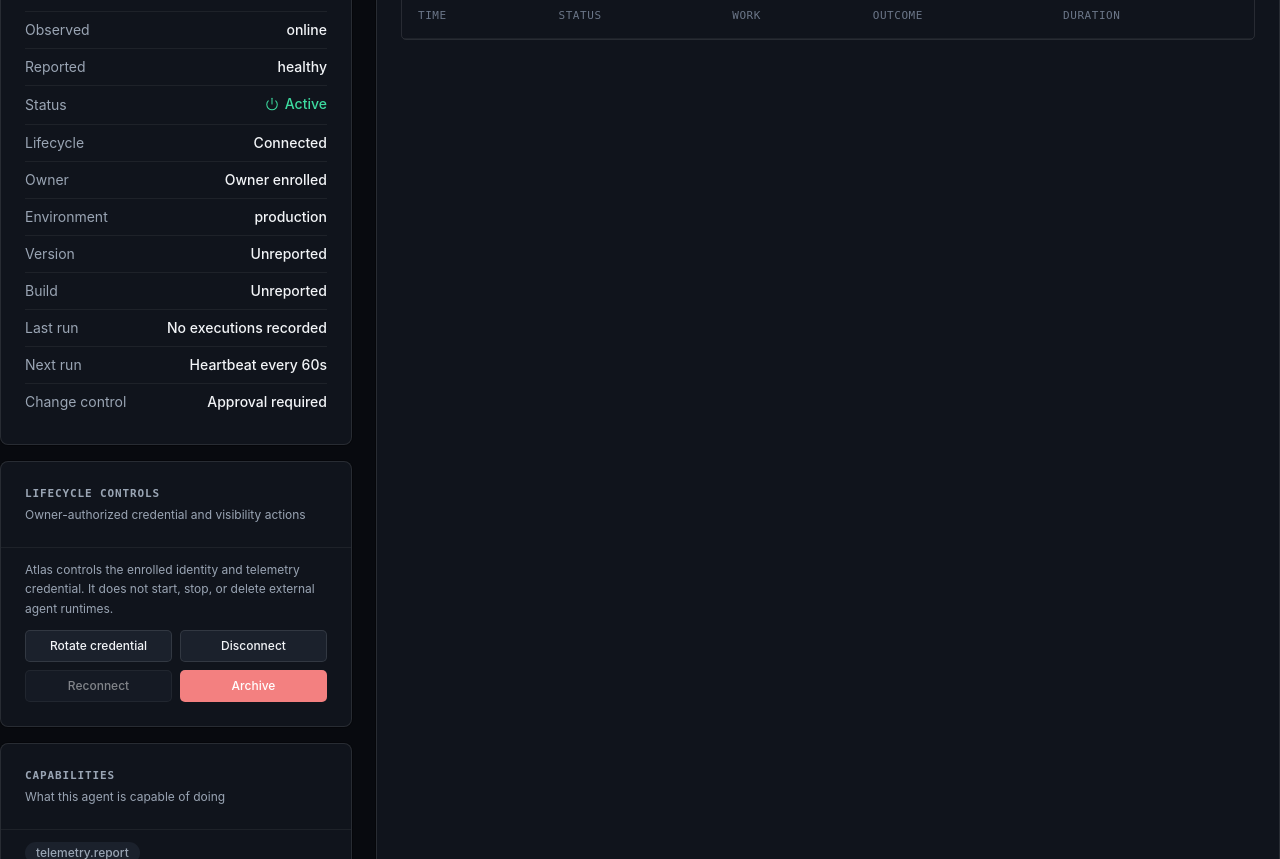
Test case: AgentDetailWorkspace active surface › rotates live credentials from the control-center detail page
(page scrolled)
Click the button "Rotate credential".
click(98, 646)  # box [25,630,172,662]
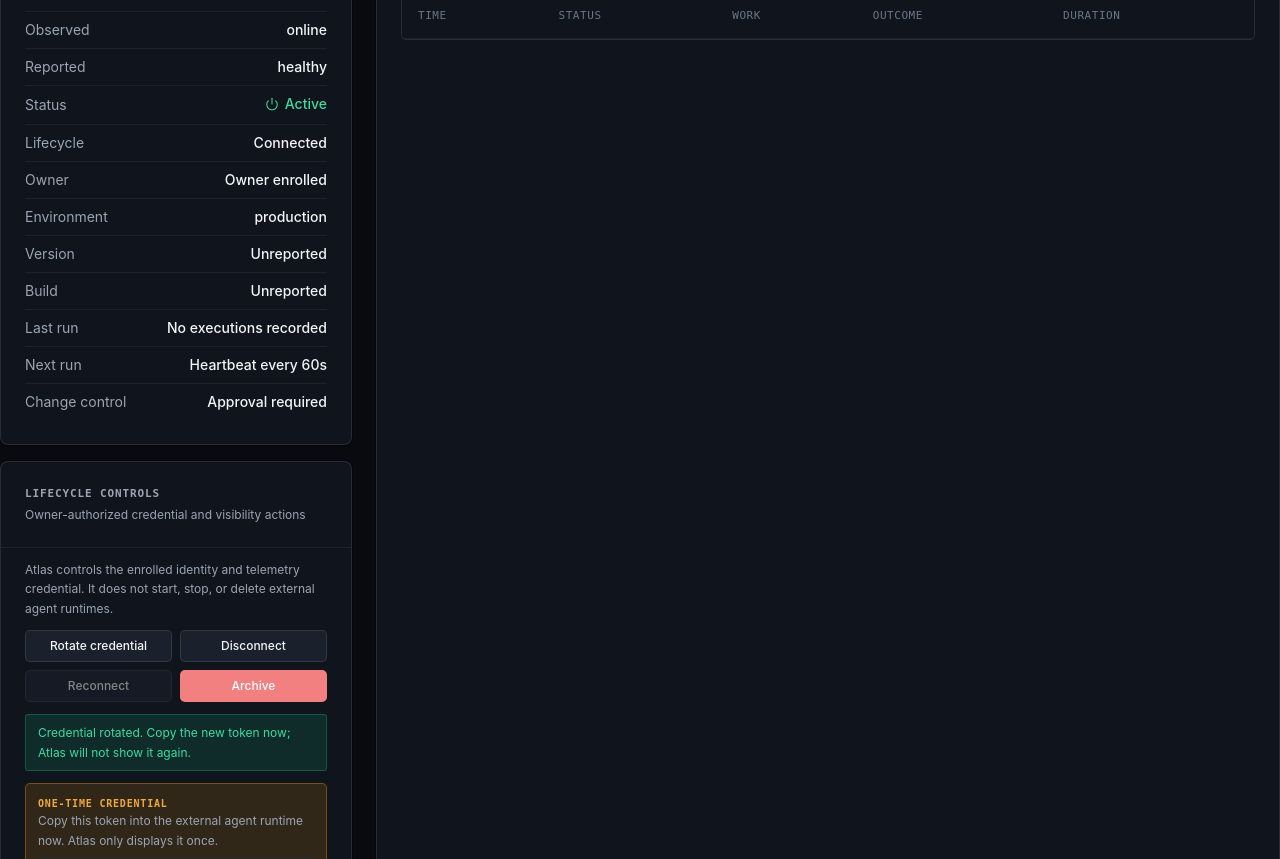
Expected: the text "Atlas only displays it once" is shown, [38,813,303,848]
